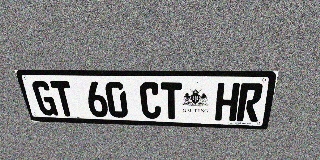0: (104, 82, 128, 118)
6: (84, 81, 109, 117)
C: (139, 82, 161, 119)
G: (31, 81, 58, 116)
H: (215, 83, 240, 121)
R: (236, 83, 264, 122)
T: (50, 81, 77, 116), (160, 82, 182, 119)
